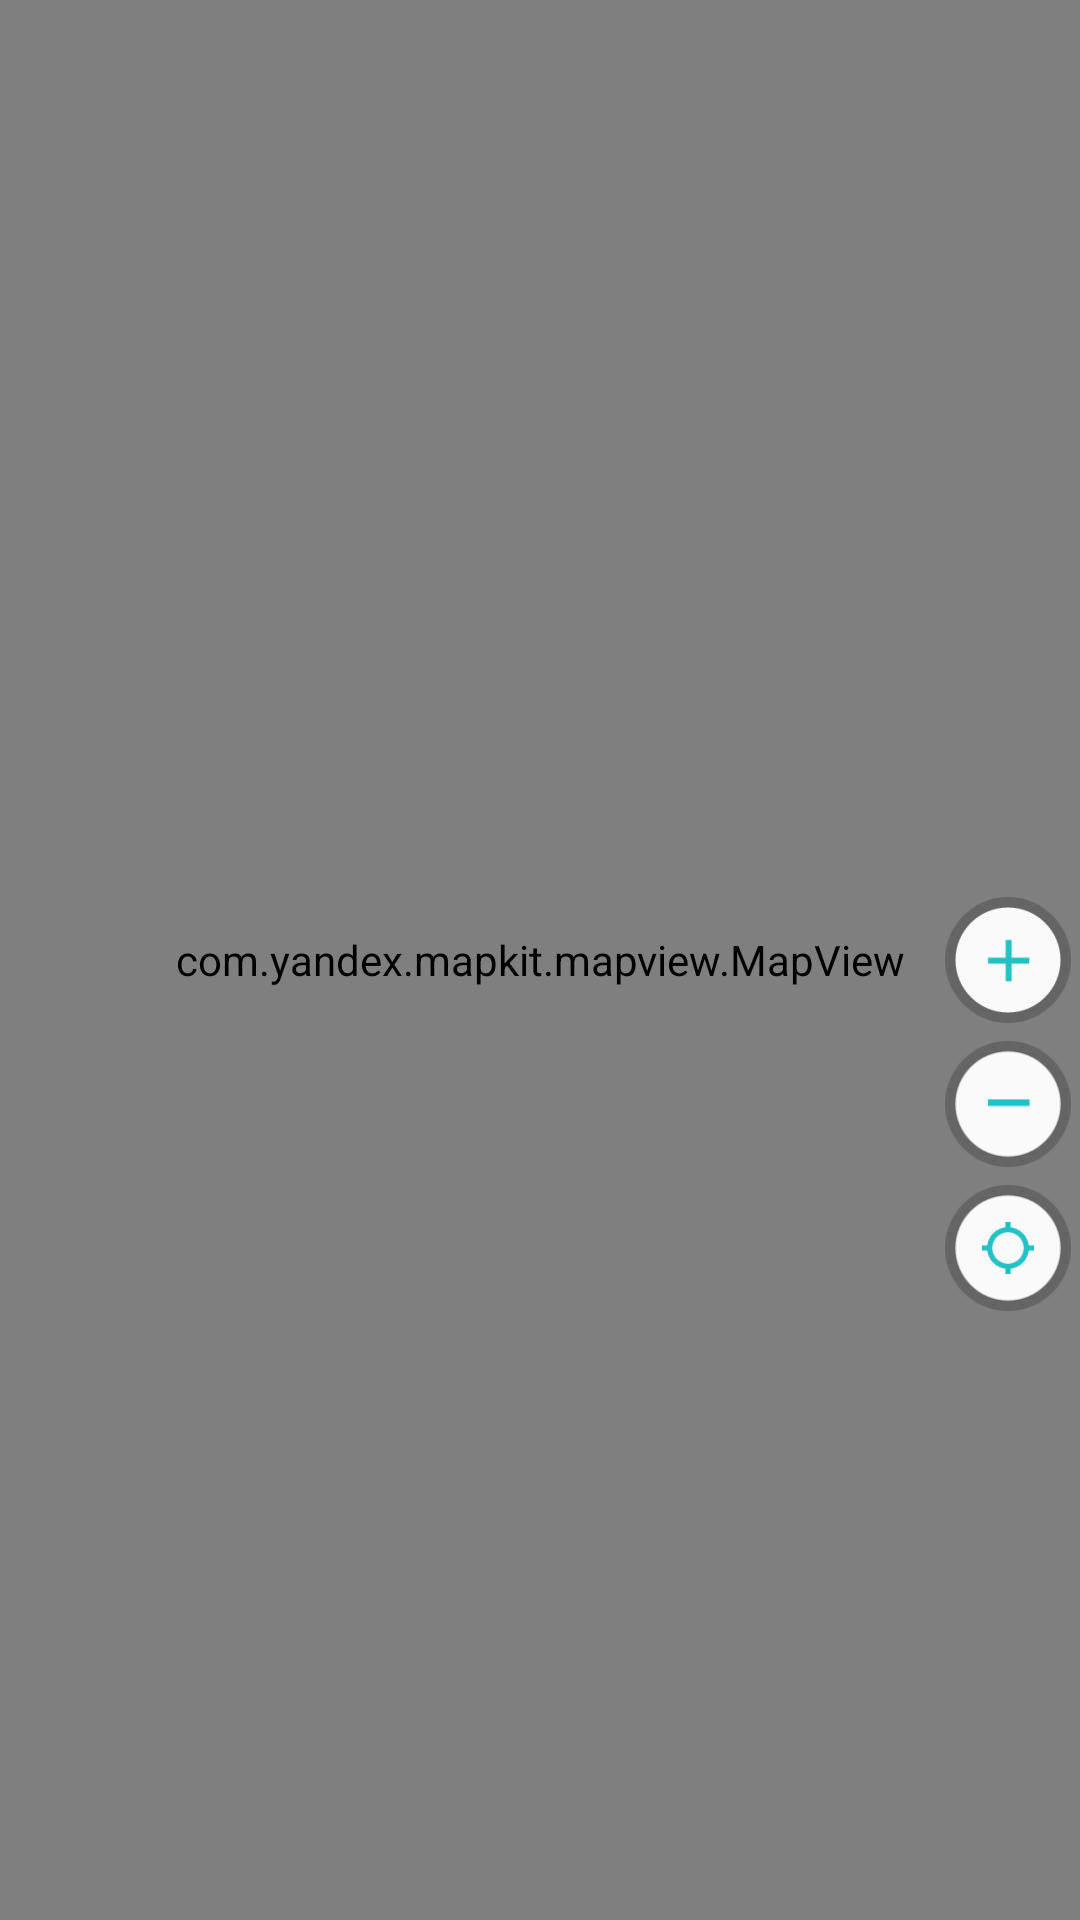

Locate icon controls on the screen. Image size 1080 x 1920, boxes as (x1, y1, x2, y2).
minus: (945, 1041, 1071, 1167)
plus: (945, 897, 1071, 1023)
user location: (945, 1185, 1071, 1311)
